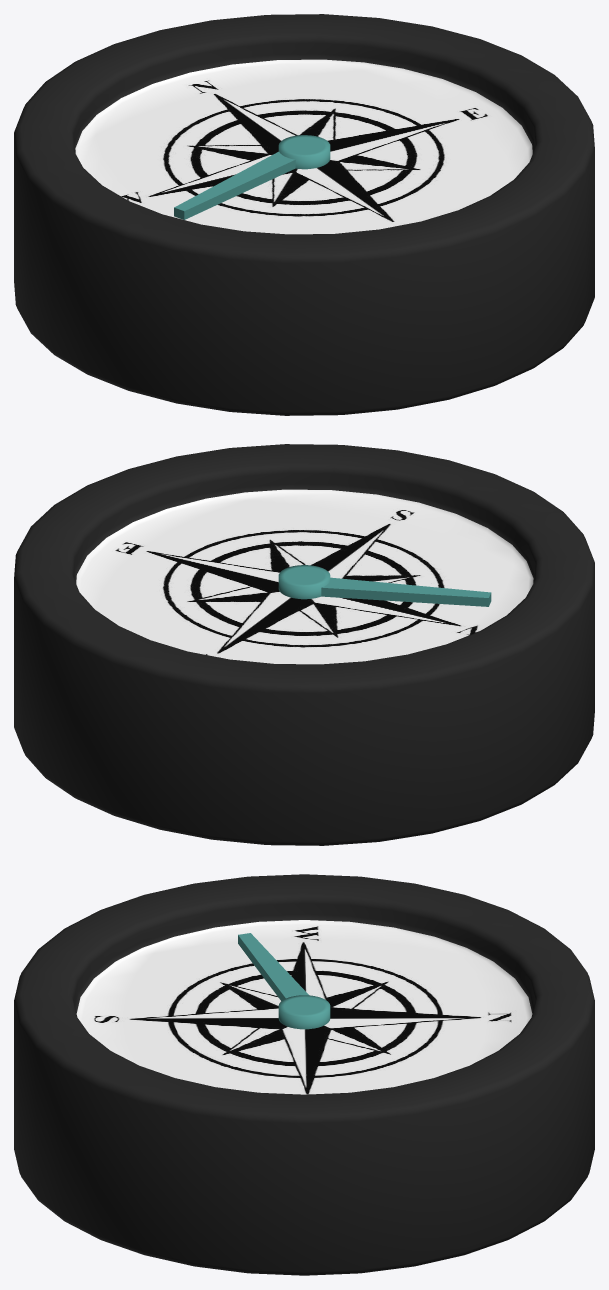
File: Orientation Gauge 1.fbx
3 views of the same model, one above another, from view 1: azimuth 30°, elevation 25°; view 2: azimuth 150°, elevation 25°; view 3: azimuth 270°, elevation 25° (orthographic).
Visible parts, largest first — view 1: Cylinder.002, Plane.001, Cylinder.003; view 2: Cylinder.002, Plane.001, Cylinder.003; view 3: Cylinder.002, Plane.001, Cylinder.003.
Part boxes in pixels (x1,y1,x2,y2): Cylinder.002: (14, 14, 594, 415); Plane.001: (174, 151, 295, 219); Cylinder.003: (278, 135, 330, 169); Cylinder.002: (14, 444, 594, 845); Plane.001: (321, 577, 491, 606); Cylinder.003: (278, 565, 330, 599); Cylinder.002: (14, 874, 594, 1275); Plane.001: (238, 933, 308, 1000); Cylinder.003: (278, 995, 330, 1029).
Bounding box in the file's own units: 200 × 61.36 × 200.
